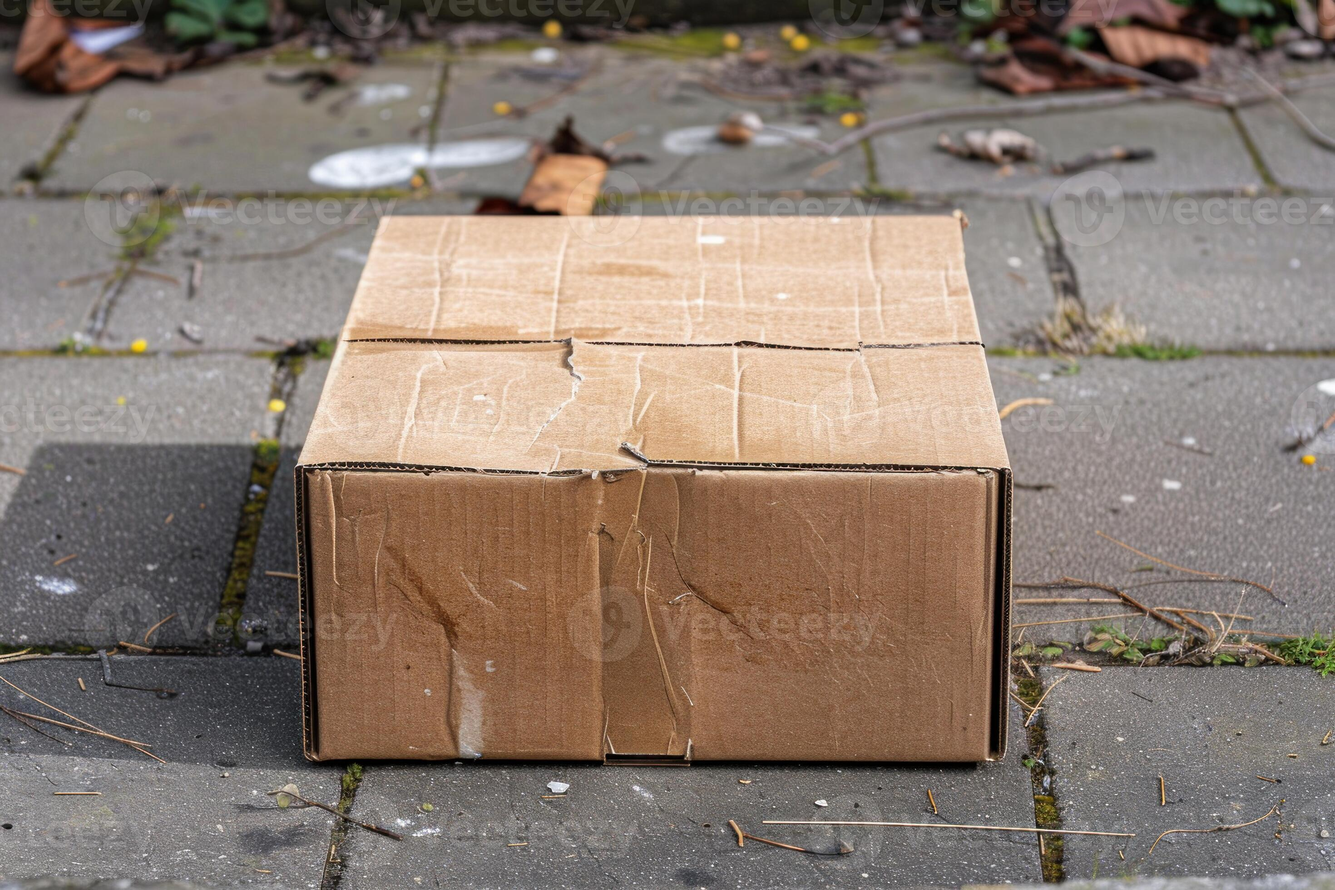DeliveryBox: (263, 173, 1039, 777)
